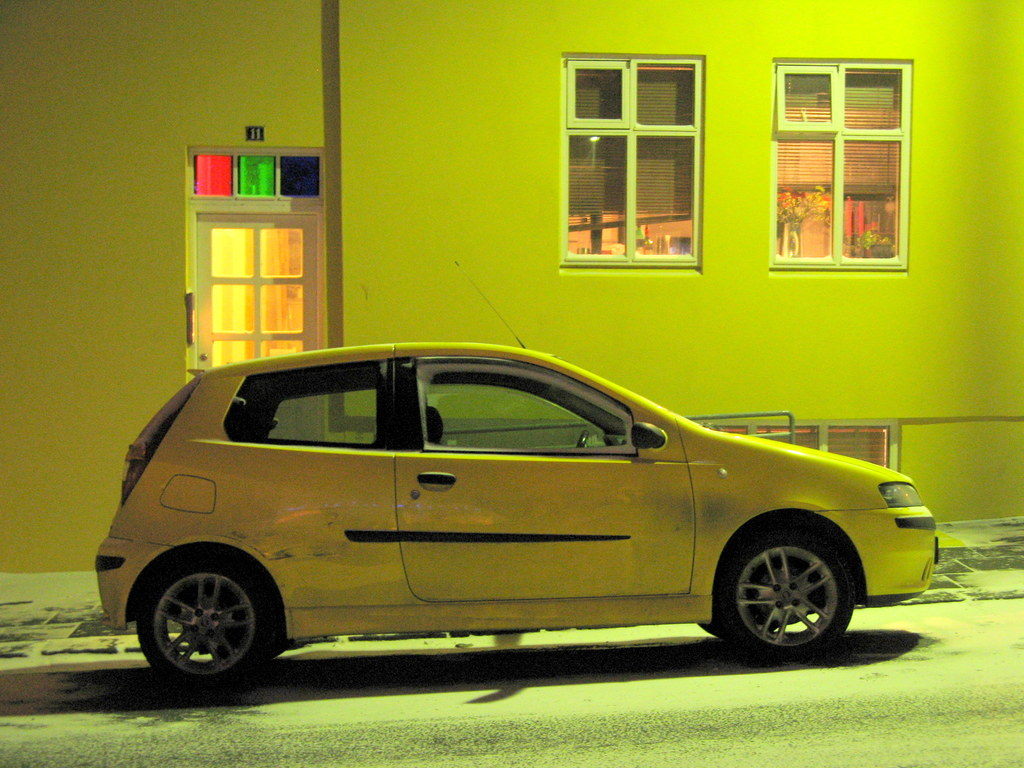Car: (88, 343, 951, 698)
